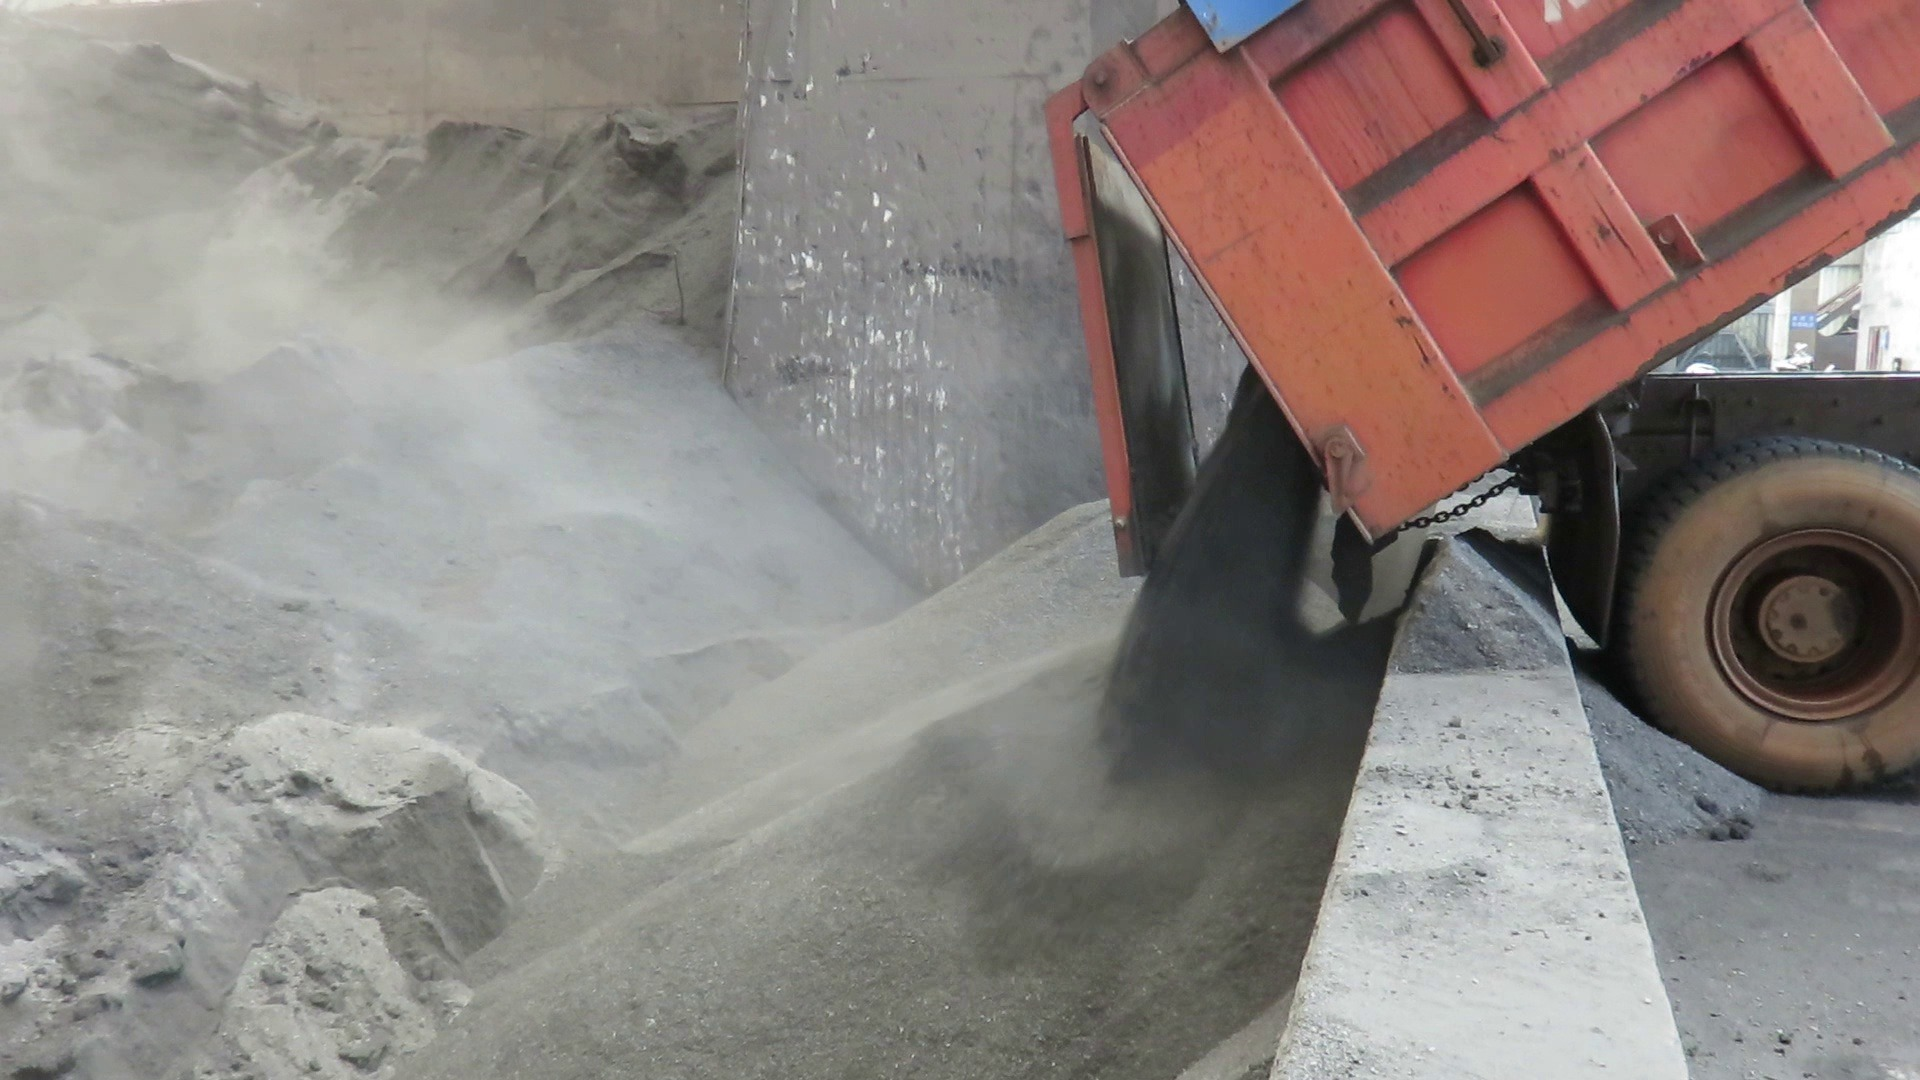dust: (5, 21, 1048, 955)
truck: (1054, 0, 1920, 833)
